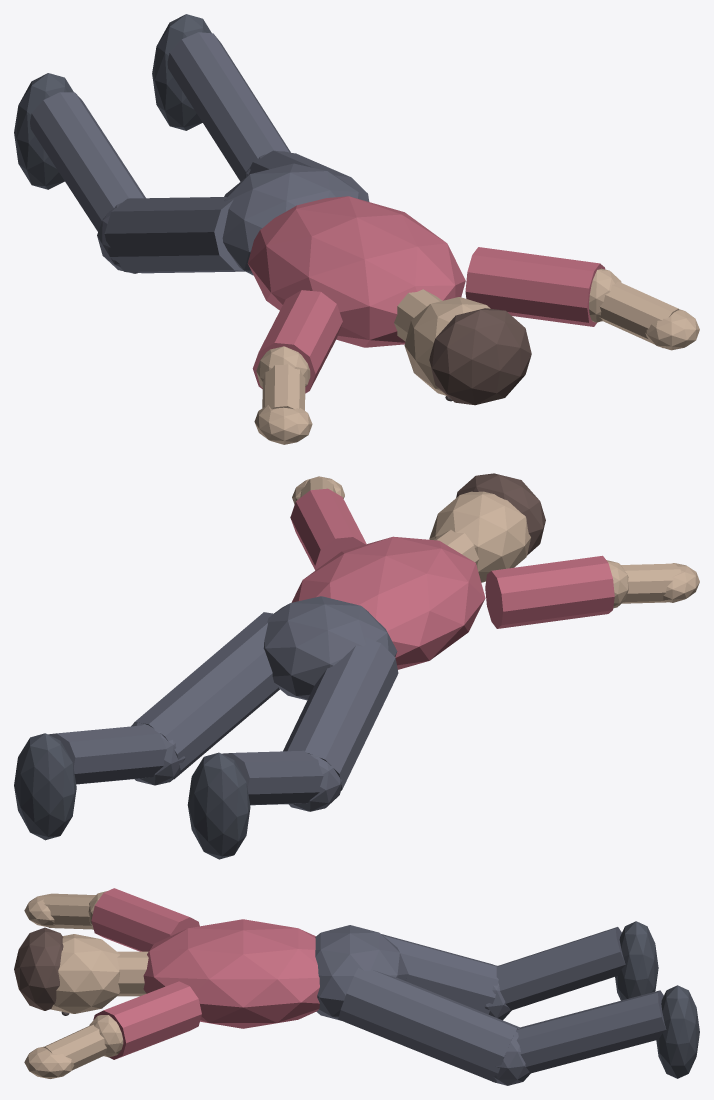
3 renders of one model, top to bottom at view 1: azimuth 30°, elevation 25°; view 2: azimuth 150°, elevation 25°; view 3: azimuth 270°, elevation 25°, orthographic. The views are drawn at different scales.
Visible parts, largest first — view 1: world; view 2: world; view 3: world.
Boxes of the visible parts, bbox=[...] form: world: bbox=[14, 14, 699, 444]; world: bbox=[14, 473, 699, 859]; world: bbox=[14, 888, 699, 1085].
Bounding box in the file's own units: 1.17 × 0.38 × 1.99.
